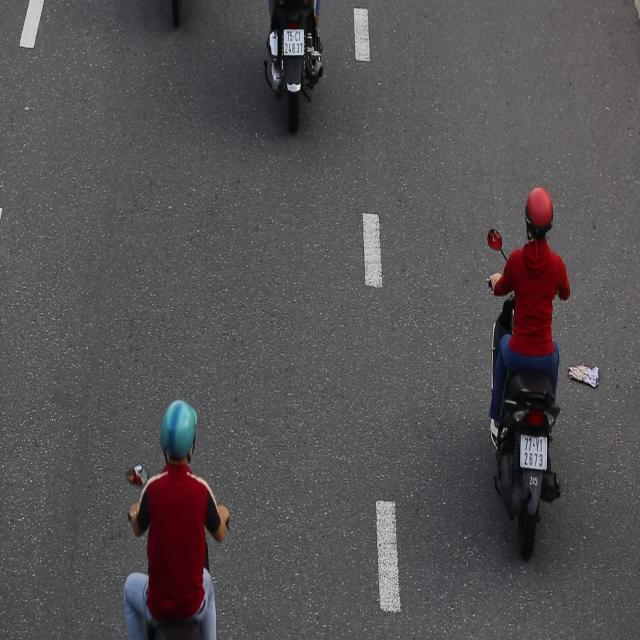motorbike: (482, 174, 575, 567)
